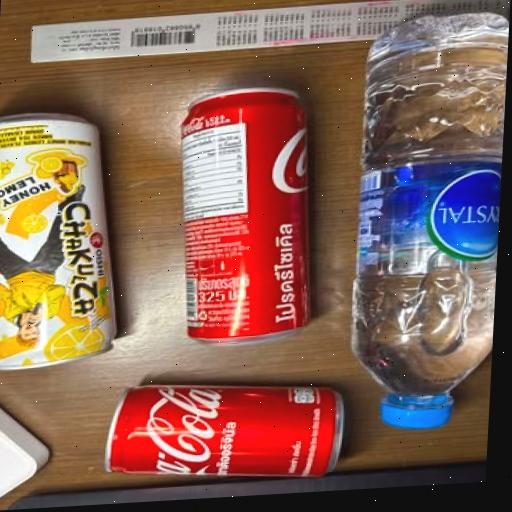bottle: (335, 0, 511, 439)
canned: (153, 77, 334, 359), (0, 76, 140, 394), (44, 373, 353, 502)
